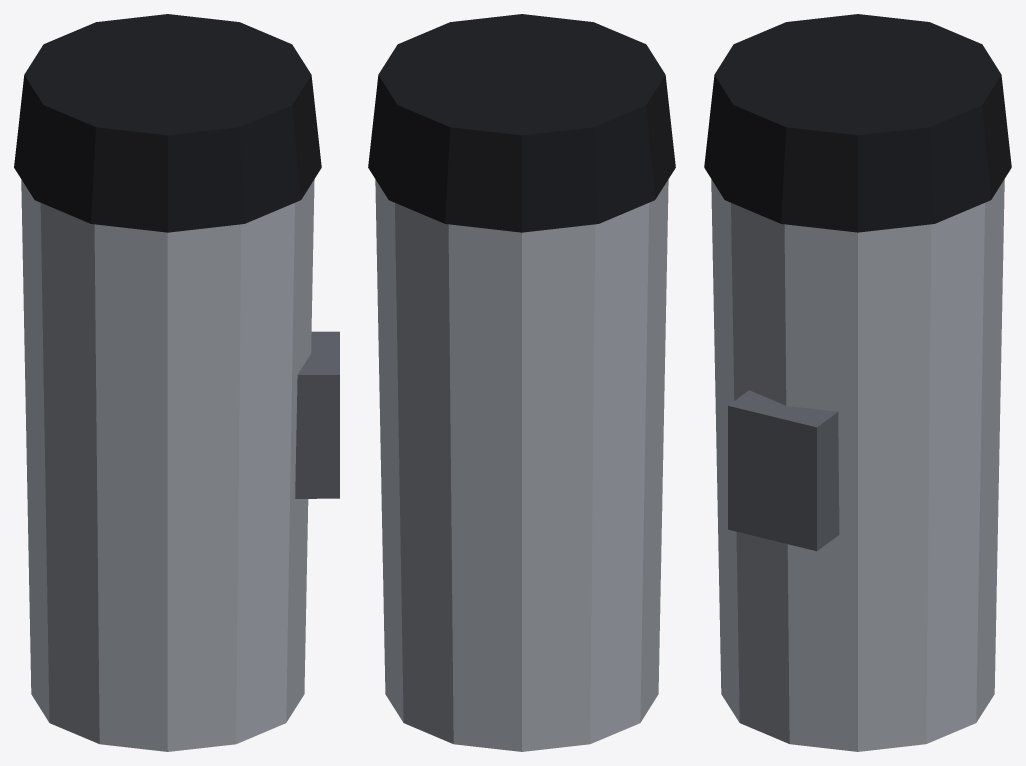
File: TravelMug.obj
The picture shows the model from 3 angles, left to right: view 1: azimuth 30°, elevation 25°; view 2: azimuth 150°, elevation 25°; view 3: azimuth 270°, elevation 25°; orthographic projection.
Parts seen in each view (by area): view 1: TravelMug; view 2: TravelMug; view 3: TravelMug.
Boxes of the visible parts, x1=… form: TravelMug: x1=14, y1=14, x2=339, y2=751; TravelMug: x1=368, y1=14, x2=675, y2=751; TravelMug: x1=704, y1=14, x2=1011, y2=751.
Size of the model in its own units: 0.0962 by 0.2 by 0.09.
Materials: 1 (1 with a texture image).
